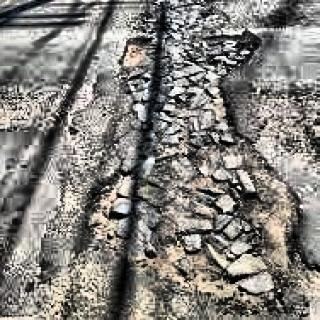pothole: (96, 157, 302, 303), (126, 0, 225, 118), (125, 121, 254, 156)
